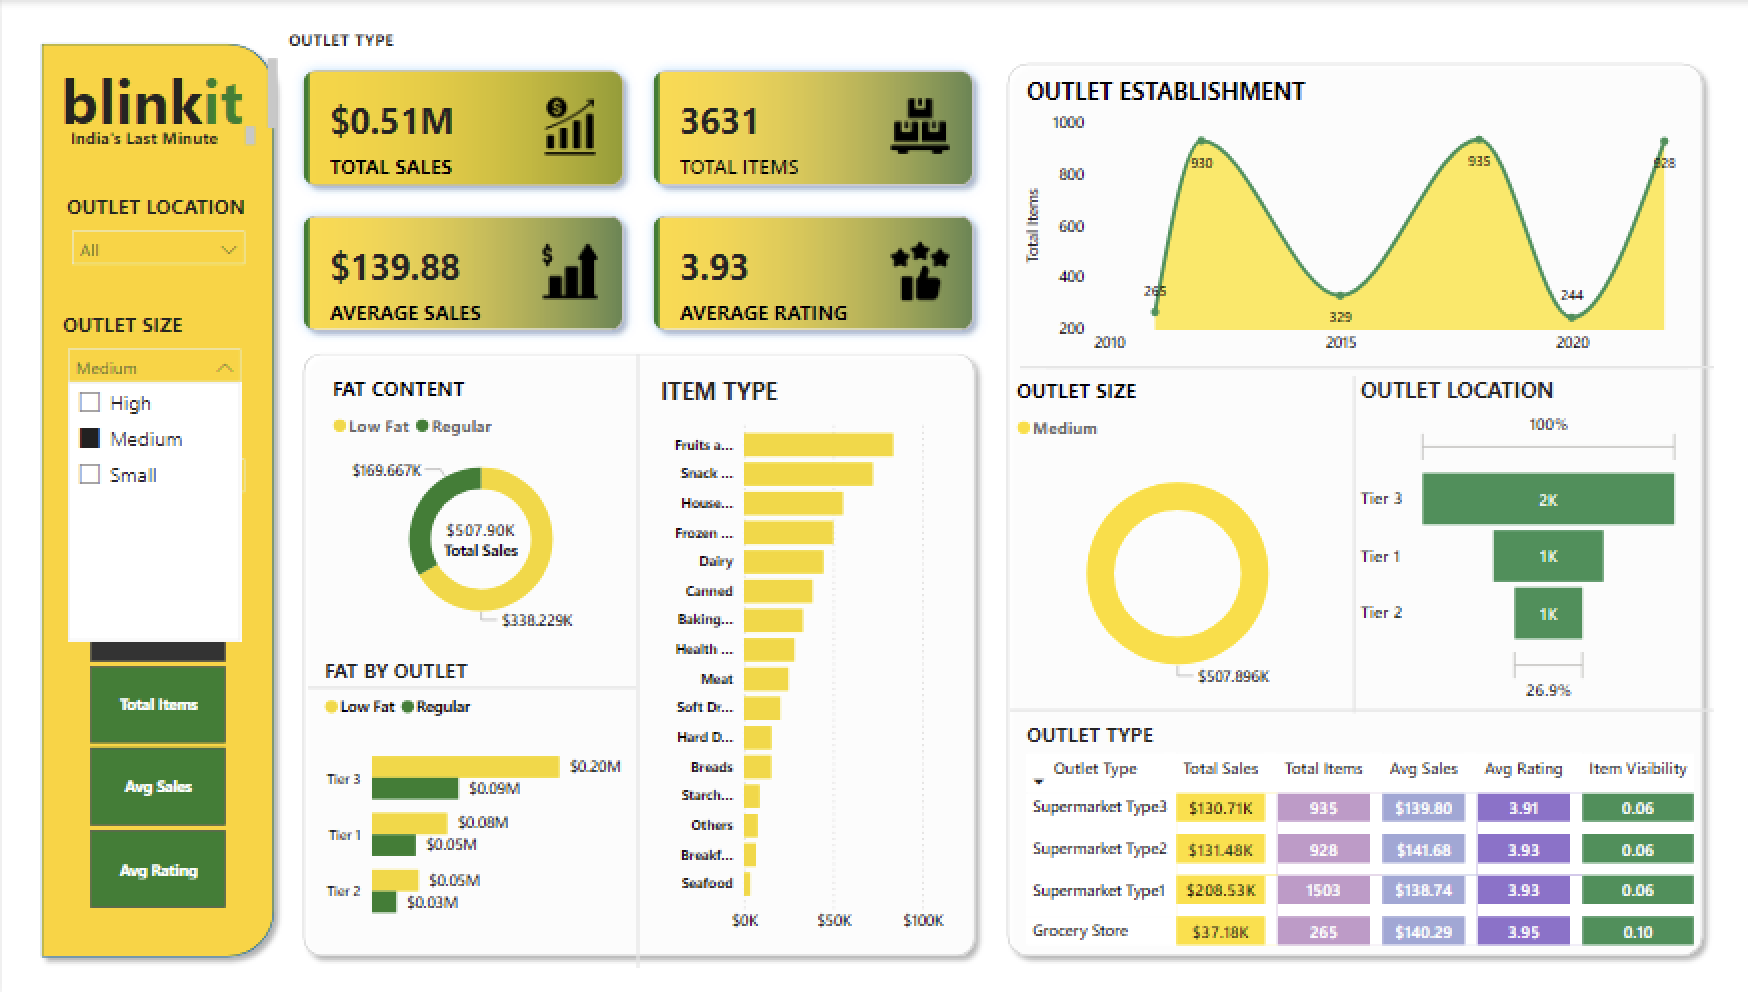

This screenshot's page, from the dashboard's own definition file:
{"tool":"powerbi","page":{"name":"Dashboard","canvas":[1400,800],"ordinal":0},"visuals":[{"type":"shape","box":[22.7,25.2,204.3,749.2],"z":0},{"type":"textbox","box":[22.4,41.6,203.2,70.4],"z":1000},{"type":"textbox","box":[49.6,96,158.4,30.4],"z":2000},{"type":"cardVisual","title":"OUTLET TYPE","fields":{"Data":["BlinkIT Grocery Data.Total Sales","BlinkIT Grocery Data.Total Items","BlinkIT Grocery Data.Avg Sales","BlinkIT Grocery Data.Avg Rating"]},"box":[224.5,22.8,570.7,260.6],"z":3000},{"type":"shape","box":[232.1,273.9,555.4,500.3],"z":4000},{"type":"donutChart","title":"FAT CONTENT","fields":{"Y":["BlinkIT Grocery Data.Avg Rating"],"Category":["BlinkIT Grocery Data.Item Fat Content"]},"box":[259.2,299.2,248,214.4],"z":5000},{"type":"slicer","title":"METRICS","fields":{"Values":["Metrics.Metrics"]},"box":[44.8,435.2,158.4,297.6],"z":6000},{"type":"cardVisual","fields":{"Data":["BlinkIT Grocery Data.Total Sales"]},"box":[324.8,382.4,116.8,99.2],"z":7000},{"type":"clusteredBarChart","title":"FAT BY OUTLET","fields":{"Y":["BlinkIT Grocery Data.Avg Rating"],"Series":["BlinkIT Grocery Data.Item Fat Content"],"Category":["BlinkIT Grocery Data.Outlet Location Type"]},"box":[252.8,524.8,249.6,230.4],"z":8000},{"type":"shape","box":[245.4,545.9,262.5,9.5],"z":9000},{"type":"shape","box":[502.4,283.2,12.8,491.2],"z":10000},{"type":"clusteredBarChart","title":"ITEM TYPE","fields":{"Y":["BlinkIT Grocery Data.Avg Rating"],"Category":["BlinkIT Grocery Data.Item Type"]},"box":[521.6,299.2,236.8,456],"z":11000},{"type":"shape","box":[795.1,41.8,574.5,732.3],"z":12000},{"type":"lineChart","title":"OUTLET ESTABLISHMENT","fields":{"Category":["BlinkIT Grocery Data.Outlet Establishment Year"],"Y":["BlinkIT Grocery Data.Total Items"]},"box":[814.1,59,534.5,234],"z":13000},{"type":"shape","box":[814.1,283.4,534.5,20.9],"z":14000},{"type":"donutChart","title":"OUTLET SIZE","fields":{"Y":["BlinkIT Grocery Data.Total Sales"],"Category":["BlinkIT Grocery Data.Outlet Size"]},"box":[806.5,300.5,268.2,266.3],"z":15000},{"type":"shape","box":[835.1,283.4,534.5,20.9],"z":16000},{"type":"shape","box":[1074.7,300.5,13.3,270.1],"z":17000},{"type":"funnel","title":"OUTLET LOCATION","fields":{"Y":["BlinkIT Grocery Data.Total Items"],"Category":["BlinkIT Grocery Data.Outlet Location Type"]},"box":[1082.3,298.6,266.3,268.2],"z":18000},{"type":"pivotTable","title":"OUTLET TYPE","fields":{"Rows":["BlinkIT Grocery Data.Outlet Type"],"Values":["BlinkIT Grocery Data.Total Sales","BlinkIT Grocery Data.Total Items","BlinkIT Grocery Data.Avg Sales","BlinkIT Grocery Data.Avg Rating","Avg(BlinkIT Grocery Data.Item Visibility)"]},"box":[814.1,570.7,568.8,203.5],"z":19000},{"type":"shape","box":[806.5,566.8,563,3.8],"z":20000},{"type":"slicer","title":"OUTLET LOCATION","fields":{"Values":["BlinkIT Grocery Data.Outlet Location Type"]},"box":[45.7,154.1,157.9,70.4],"z":20001},{"type":"slicer","title":"OUTLET SIZE","fields":{"Values":["BlinkIT Grocery Data.Outlet Size"]},"box":[43.8,247.3,157.9,70.4],"z":20002},{"type":"slicer","title":"ITEM TYPE","fields":{"Values":["BlinkIT Grocery Data.Item Type"]},"box":[45.7,336.7,157.9,70.4],"z":20003}]}

Visuals, with their boxes in screenshot pixels (x1, y1, x2, y2), scaled from the page's 1400x800 canvas onto the 1748x992 screenshot:
shape: <box>28,31,283,960</box>
textbox: <box>28,52,282,139</box>
textbox: <box>62,119,260,157</box>
"OUTLET TYPE" cardVisual: <box>280,28,993,351</box>
shape: <box>290,340,983,960</box>
"FAT CONTENT" donutChart: <box>324,371,633,637</box>
"METRICS" slicer: <box>56,540,254,909</box>
cardVisual - BlinkIT Grocery Data.Total Sales: <box>406,474,551,597</box>
"FAT BY OUTLET" clusteredBarChart: <box>316,651,627,936</box>
shape: <box>306,677,634,689</box>
shape: <box>627,351,643,960</box>
"ITEM TYPE" clusteredBarChart: <box>651,371,947,936</box>
shape: <box>993,52,1710,960</box>
"OUTLET ESTABLISHMENT" lineChart: <box>1016,73,1684,363</box>
shape: <box>1016,351,1684,377</box>
"OUTLET SIZE" donutChart: <box>1007,373,1342,703</box>
shape: <box>1043,351,1710,377</box>
shape: <box>1342,373,1358,708</box>
"OUTLET LOCATION" funnel: <box>1351,370,1684,703</box>
"OUTLET TYPE" pivotTable: <box>1016,708,1727,960</box>
shape: <box>1007,703,1710,708</box>
"OUTLET LOCATION" slicer: <box>57,191,254,278</box>
"OUTLET SIZE" slicer: <box>55,307,252,394</box>
"ITEM TYPE" slicer: <box>57,418,254,505</box>
